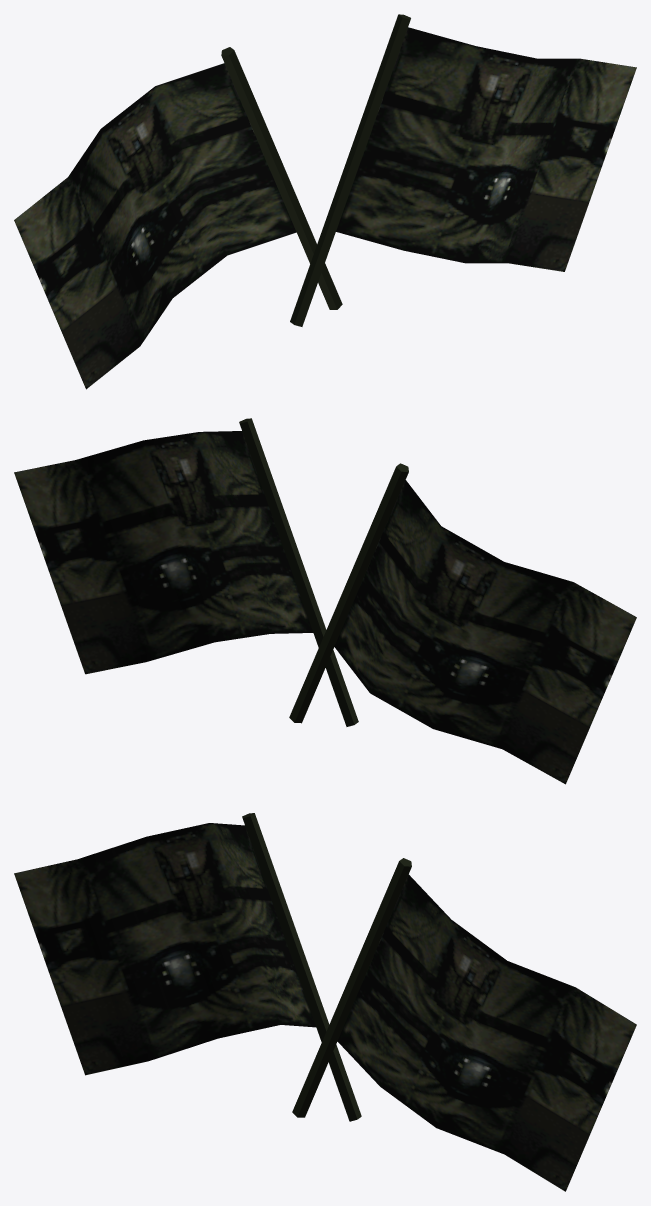
The model's file is SLIME2.ICO.obj.
The picture shows the model from 3 angles, top to bottom: view 1: azimuth 30°, elevation 25°; view 2: azimuth 150°, elevation 25°; view 3: azimuth 330°, elevation 25°; orthographic projection.
Size of the model in its own units: 4.87 by 2.21 by 0.5476.
